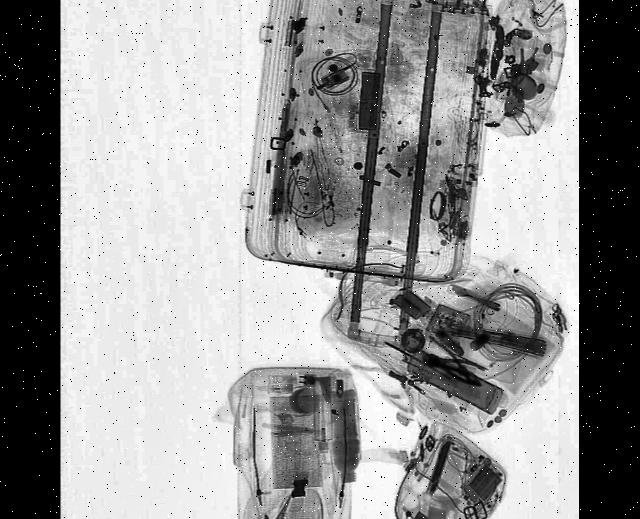Pliers: (420, 336, 482, 398), (424, 350, 481, 389)
